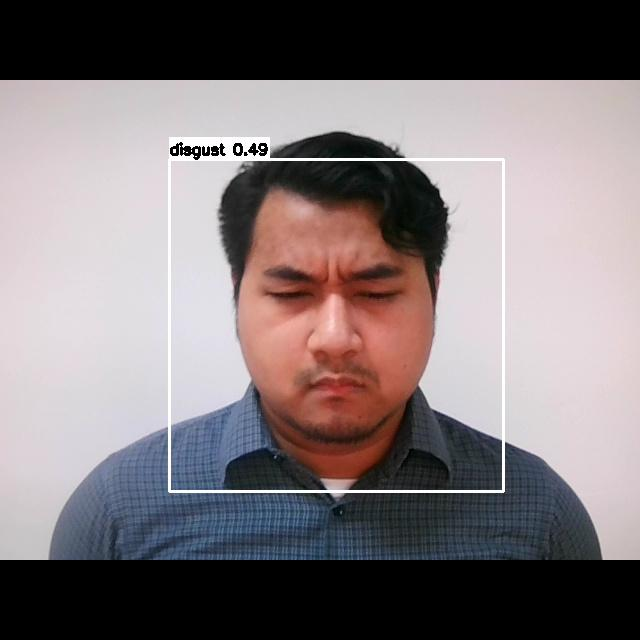Angry: (259, 253, 417, 414)
